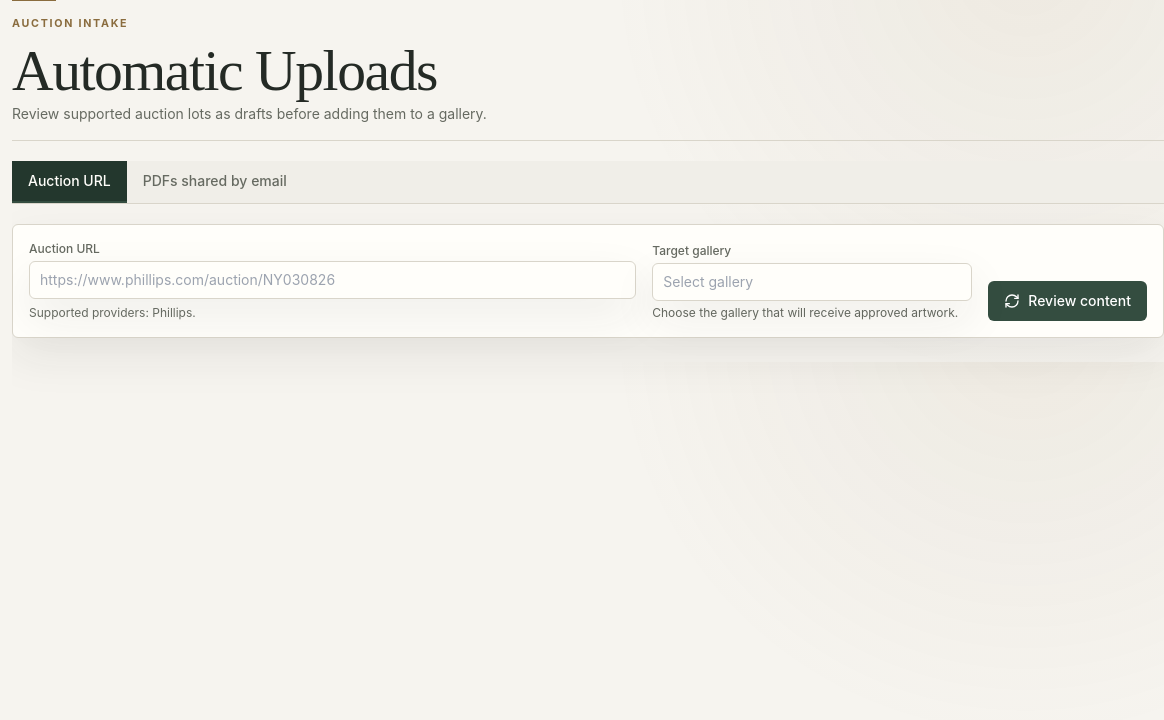
Test: AutomaticUploadsPage › lets a global admin select a gallery and review its emailed PDFs
Click the tab "PDFs shared by email". click: (215, 182)
box: [127,161,303,203]
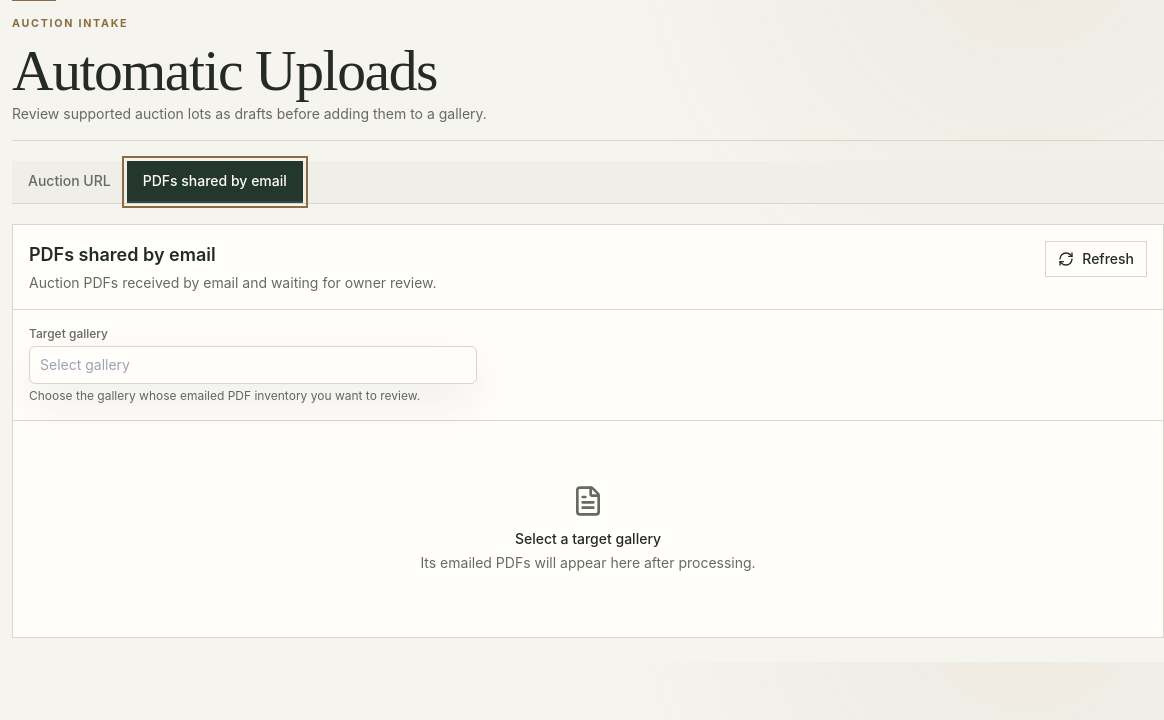
Now the text "Select a target gallery" is shown, box [515,530,661,547]
Click the dropdown named "PDF inventory target gallery". click: (253, 365)
box: [29,346,477,384]
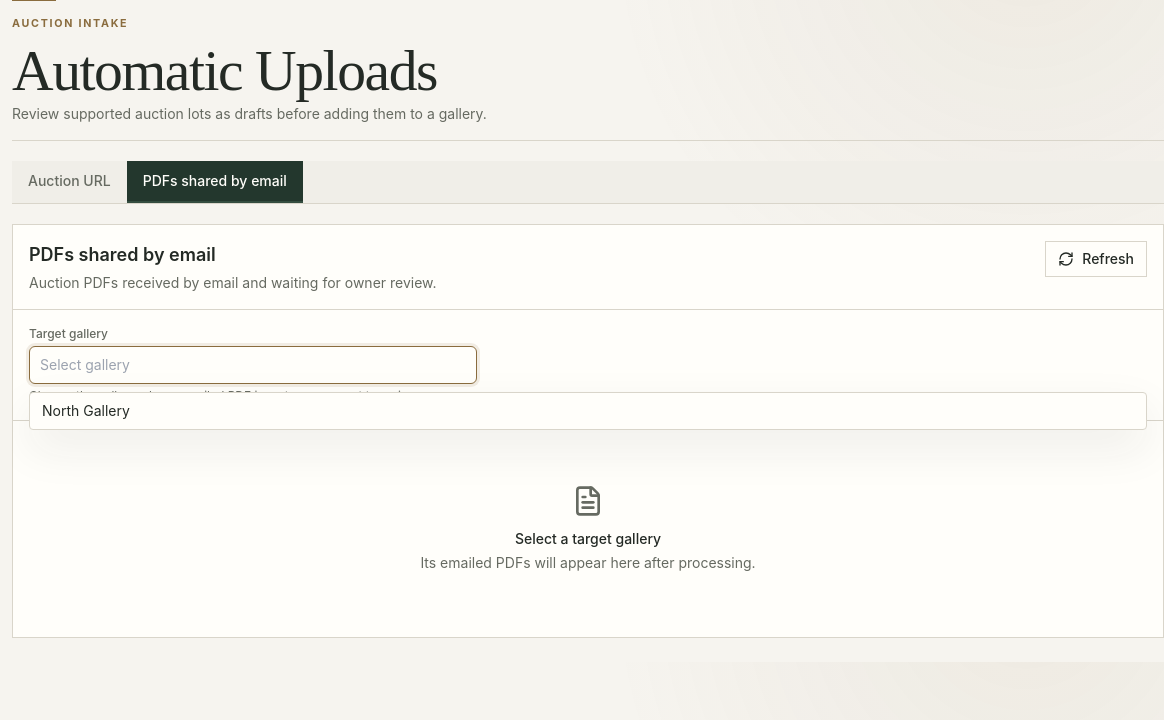
Click the option "North Gallery". click: (86, 411)
box: [30,393,1146,429]
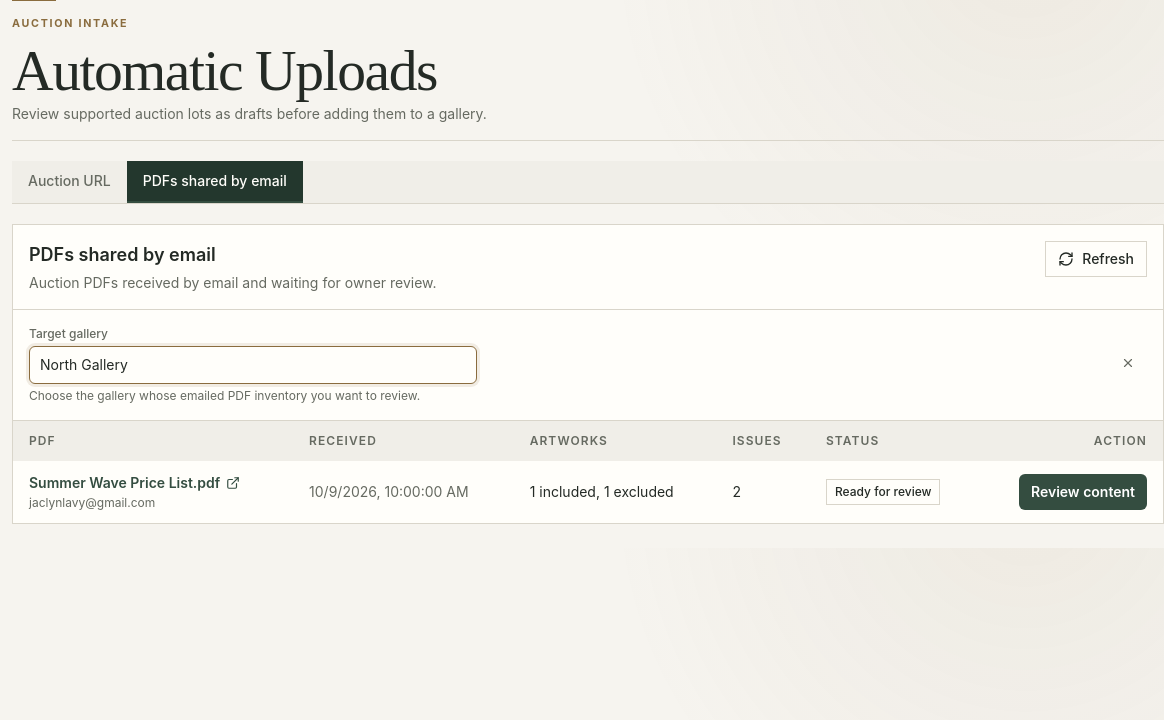
Now the button "Summer Wave Price List.pdf" is shown, box [29,473,240,493]
